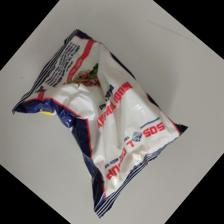Salt: (7, 26, 191, 224)
